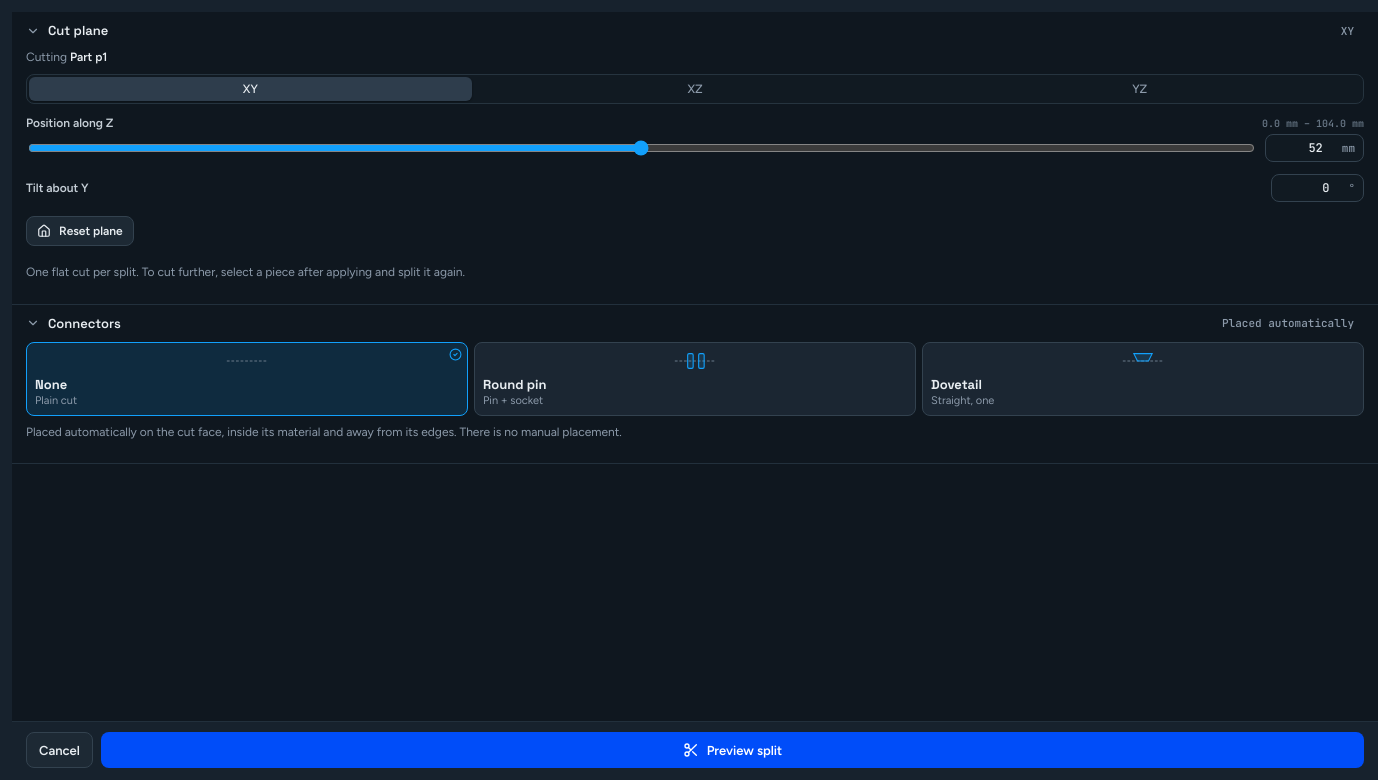
Scenario: connectors › refuses to preview a dimension the engine would refuse, and names it
Click the radio button with test id "split-connector-pin": point(695, 361) [474,342,916,416]
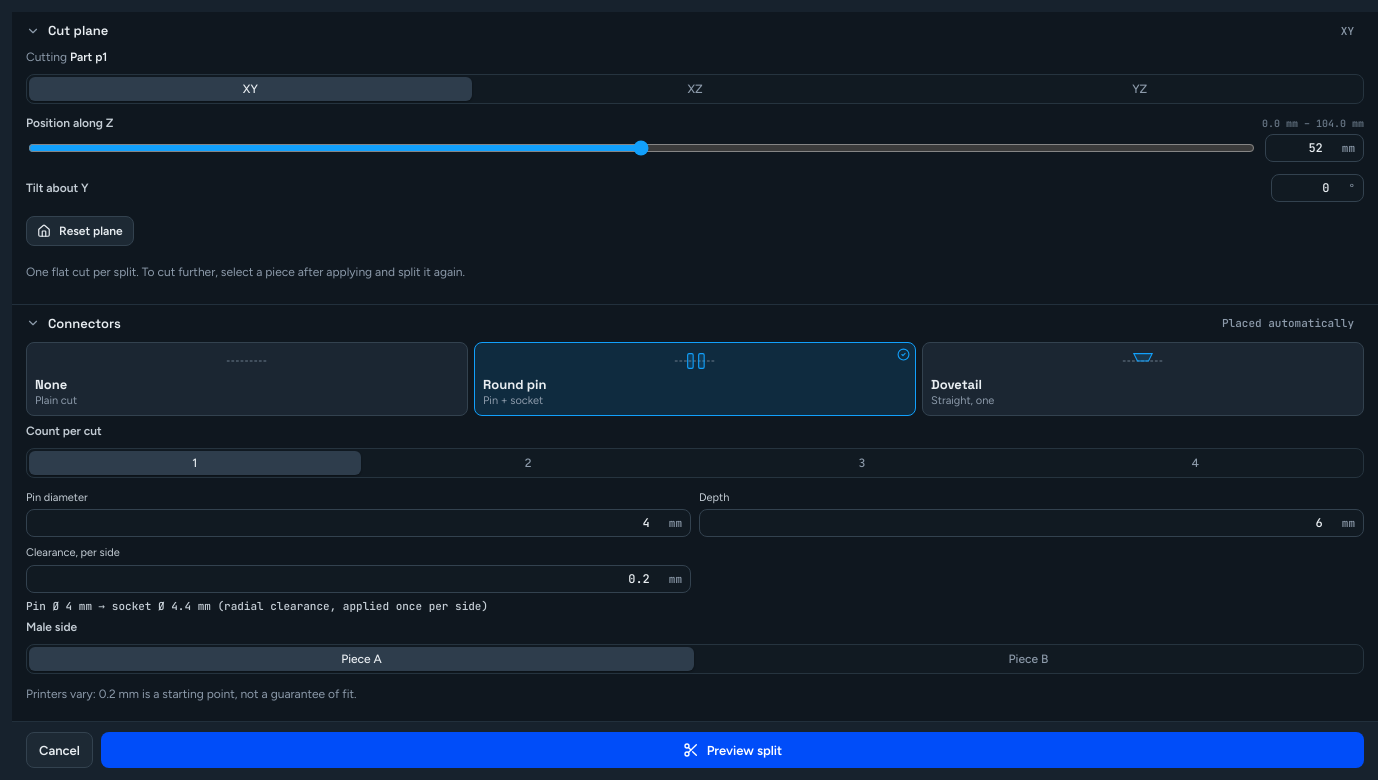
Replace the text in the number field with test id "split-pin-diameter" with "0": point(350, 523) [35,510,665,536]
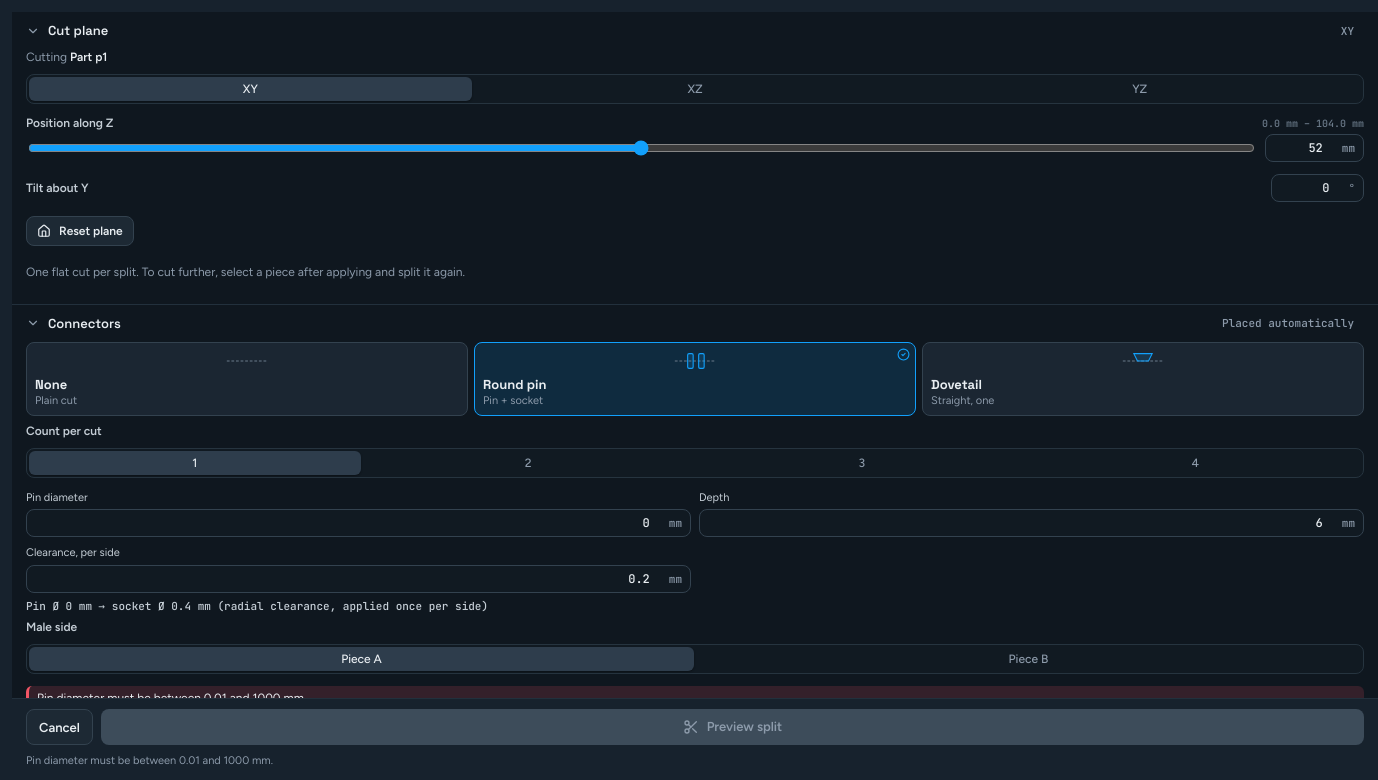
expect the message with test id "split-connector-problem" shows "Pin diameter": met, box [37,691,306,705]
expect the button with test id "split-preview" is disabled: met, box [101,709,1364,745]
